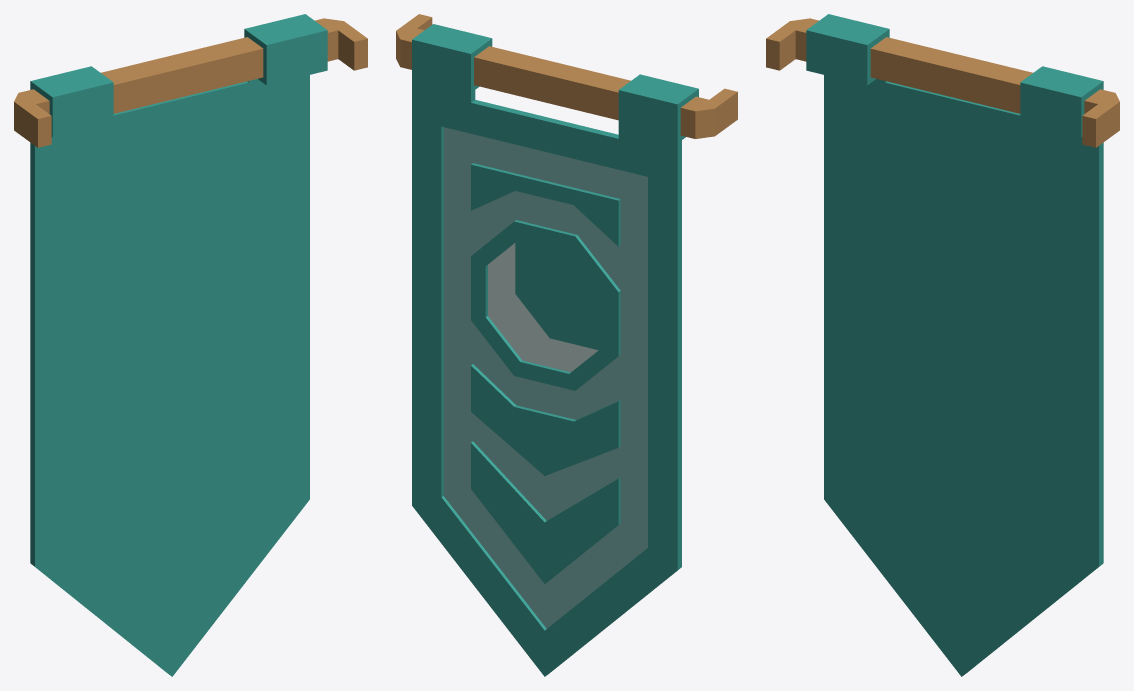
The model's file is Prop_Flag_Moon.fbx.
3 renders of one model, left to right at view 1: azimuth 30°, elevation 25°; view 2: azimuth 150°, elevation 25°; view 3: azimuth 330°, elevation 25°, orthographic. The views are drawn at different scales.
Parts seen in each view (by area): view 1: object2, object1; view 2: object2, object1; view 3: object2, object1.
Boxes of the visible parts, <box> form: object2: <box>30,14,327,676</box>; object1: <box>14,18,367,147</box>; object2: <box>412,24,698,676</box>; object1: <box>396,14,737,138</box>; object2: <box>806,14,1103,676</box>; object1: <box>766,18,1119,147</box>.
Size of the model in its own units: 0.54 by 0.979 by 0.099.
